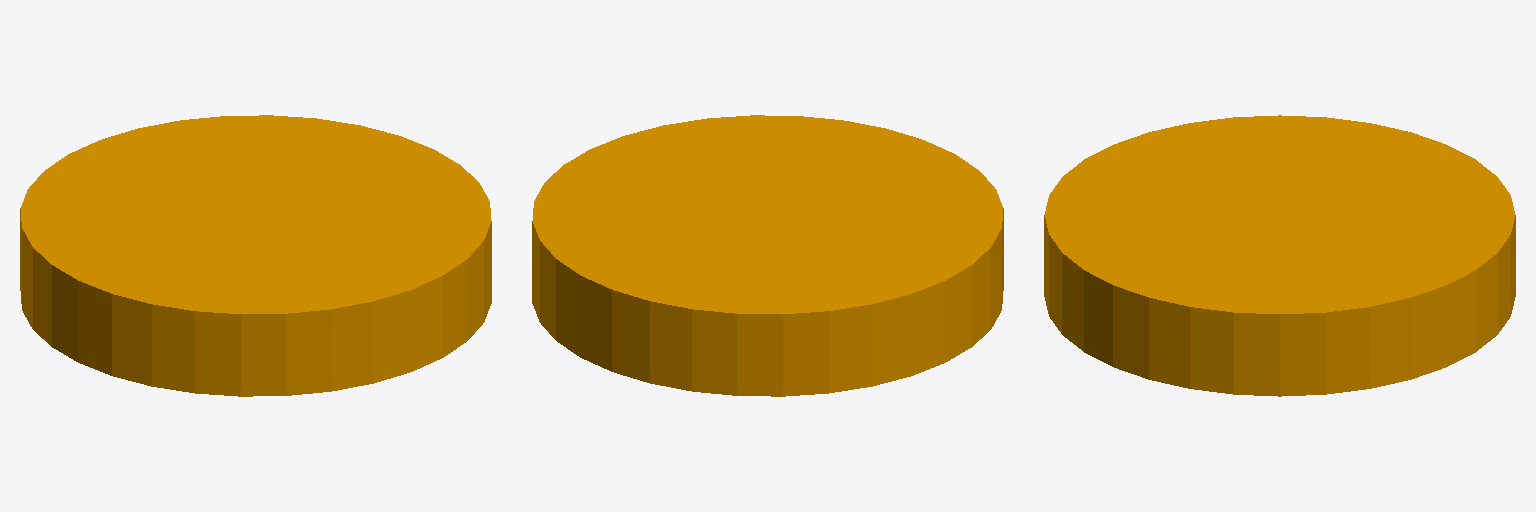
The robot description file, URDF, robot "red_cylinder":
<?xml version="1.0"?>
<robot name="red_cylinder">

<link name="base_link">
  <collision>
    <origin xyz="0 0 0" rpy="0 0 0"/>
    <geometry>
      <cylinder length="0.025" radius="0.065"/>
    </geometry>
  </collision>

  <visual>
    <origin xyz="0 0 0" rpy="0 0 0"/>
    <geometry>
      <cylinder length="0.025" radius="0.065"/>
    </geometry>
  </visual>

  <inertial>
    <origin xyz="0 0 0" rpy="0 0 0"/>
    <mass value="0.005" />
    <inertia
      ixx="0.00001" ixy="0.0" ixz="0.0"
      iyy="0.00001" iyz="0.0"
      izz="0.00001"/>
  </inertial>
</link>

<gazebo reference="base_link">
  <material>Gazebo/Red</material>
  <mu1>99999</mu1>
  <mu2>99999</mu2>
</gazebo>



</robot>

--- What the picture shows (computed from the rendered views, not written in the file) ---
The picture shows the robot from 3 angles, left to right: view 1: azimuth 30°, elevation 25°; view 2: azimuth 150°, elevation 25°; view 3: azimuth 270°, elevation 25°; orthographic projection.
Robot: red_cylinder — 1 links, 0 joints (none); root link base_link; default pose: every joint at zero.
Visible links, largest first — view 1: base_link; view 2: base_link; view 3: base_link.
Link boxes in pixels (x1,y1,x2,y2): base_link: [20, 115, 491, 396]; base_link: [532, 115, 1003, 396]; base_link: [1044, 115, 1515, 396].
Size in the robot's own frame: 0.13 by 0.13 by 0.025 metres.
Geometry: primitives only (box / cylinder / sphere), no mesh files.